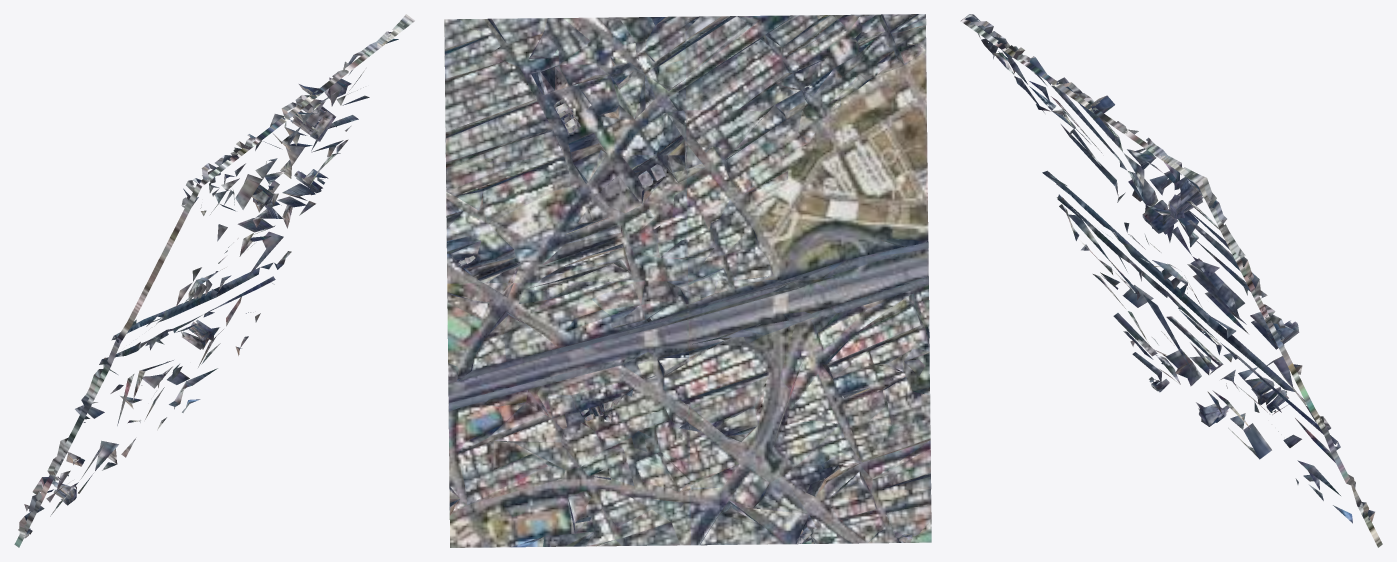
3 views of the same model, side by side, from view 1: azimuth 30°, elevation 25°; view 2: azimuth 150°, elevation 25°; view 3: azimuth 270°, elevation 25° (orthographic). The views are drawn at different scales.
Bounding box in the file's own units: 1222 × 1130 × 1031.
2 materials, 2 textured.
